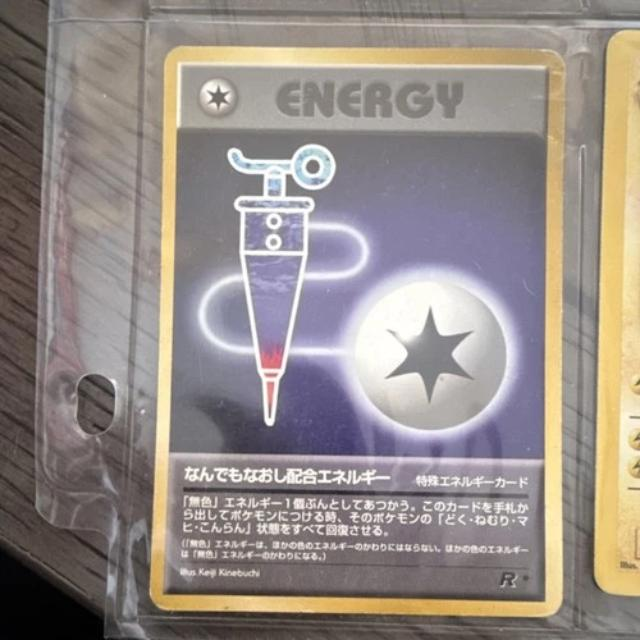Card: (140, 38, 570, 622)
Name: (177, 455, 392, 490)
